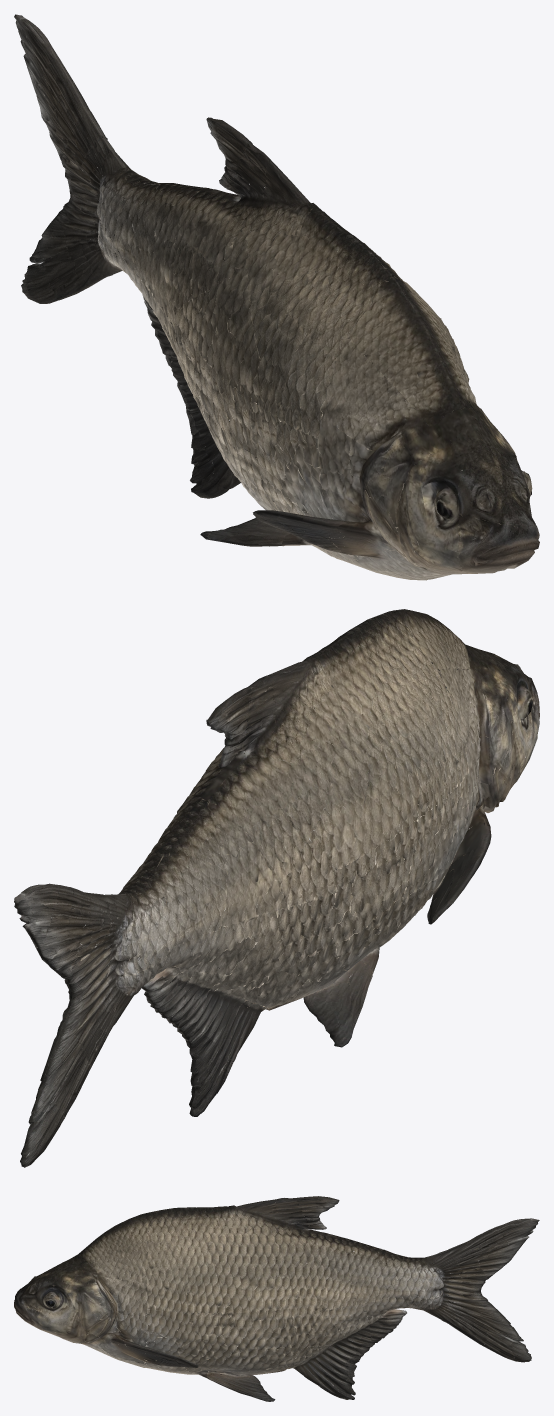
The model's file is leszcz.glb.
3 views of the same model, one above another, from view 1: azimuth 30°, elevation 25°; view 2: azimuth 150°, elevation 25°; view 3: azimuth 270°, elevation 25° (orthographic). The views are drawn at different scales.
Visible parts, largest first — view 1: Mesh_0; view 2: Mesh_0; view 3: Mesh_0.
Part boxes in pixels (x1,y1,x2,y2): Mesh_0: (14, 14, 539, 580); Mesh_0: (14, 609, 539, 1167); Mesh_0: (14, 1196, 539, 1401).
Bounding box in the file's own units: 0.4332 × 0.8142 × 1.9.
Materials: 1 (1 with a texture image).
